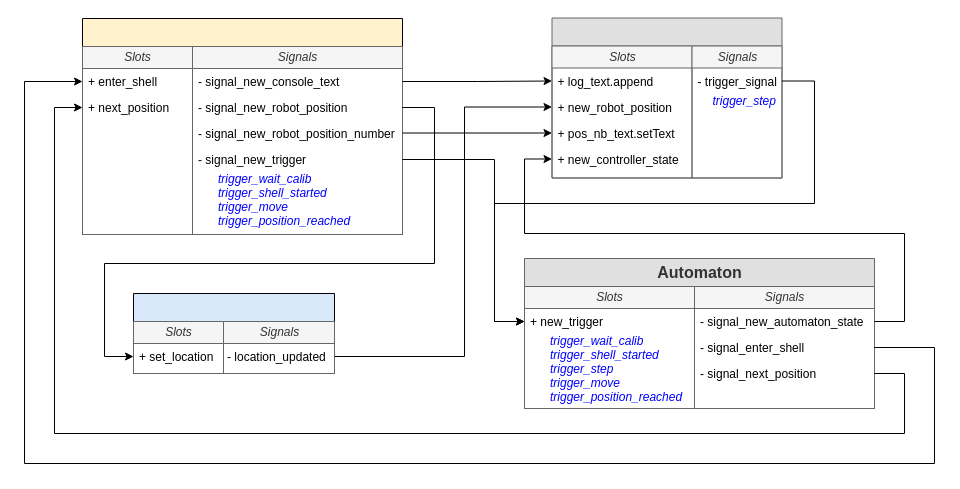
Image size: 960x489. Some labels were removed from this diagram. Each missing label, with the box of its shape:
MainWindow: (551, 17, 782, 178)
Robot (Thread-2): (132, 292, 334, 374)
SerialController (Thread-3): (82, 18, 402, 234)
